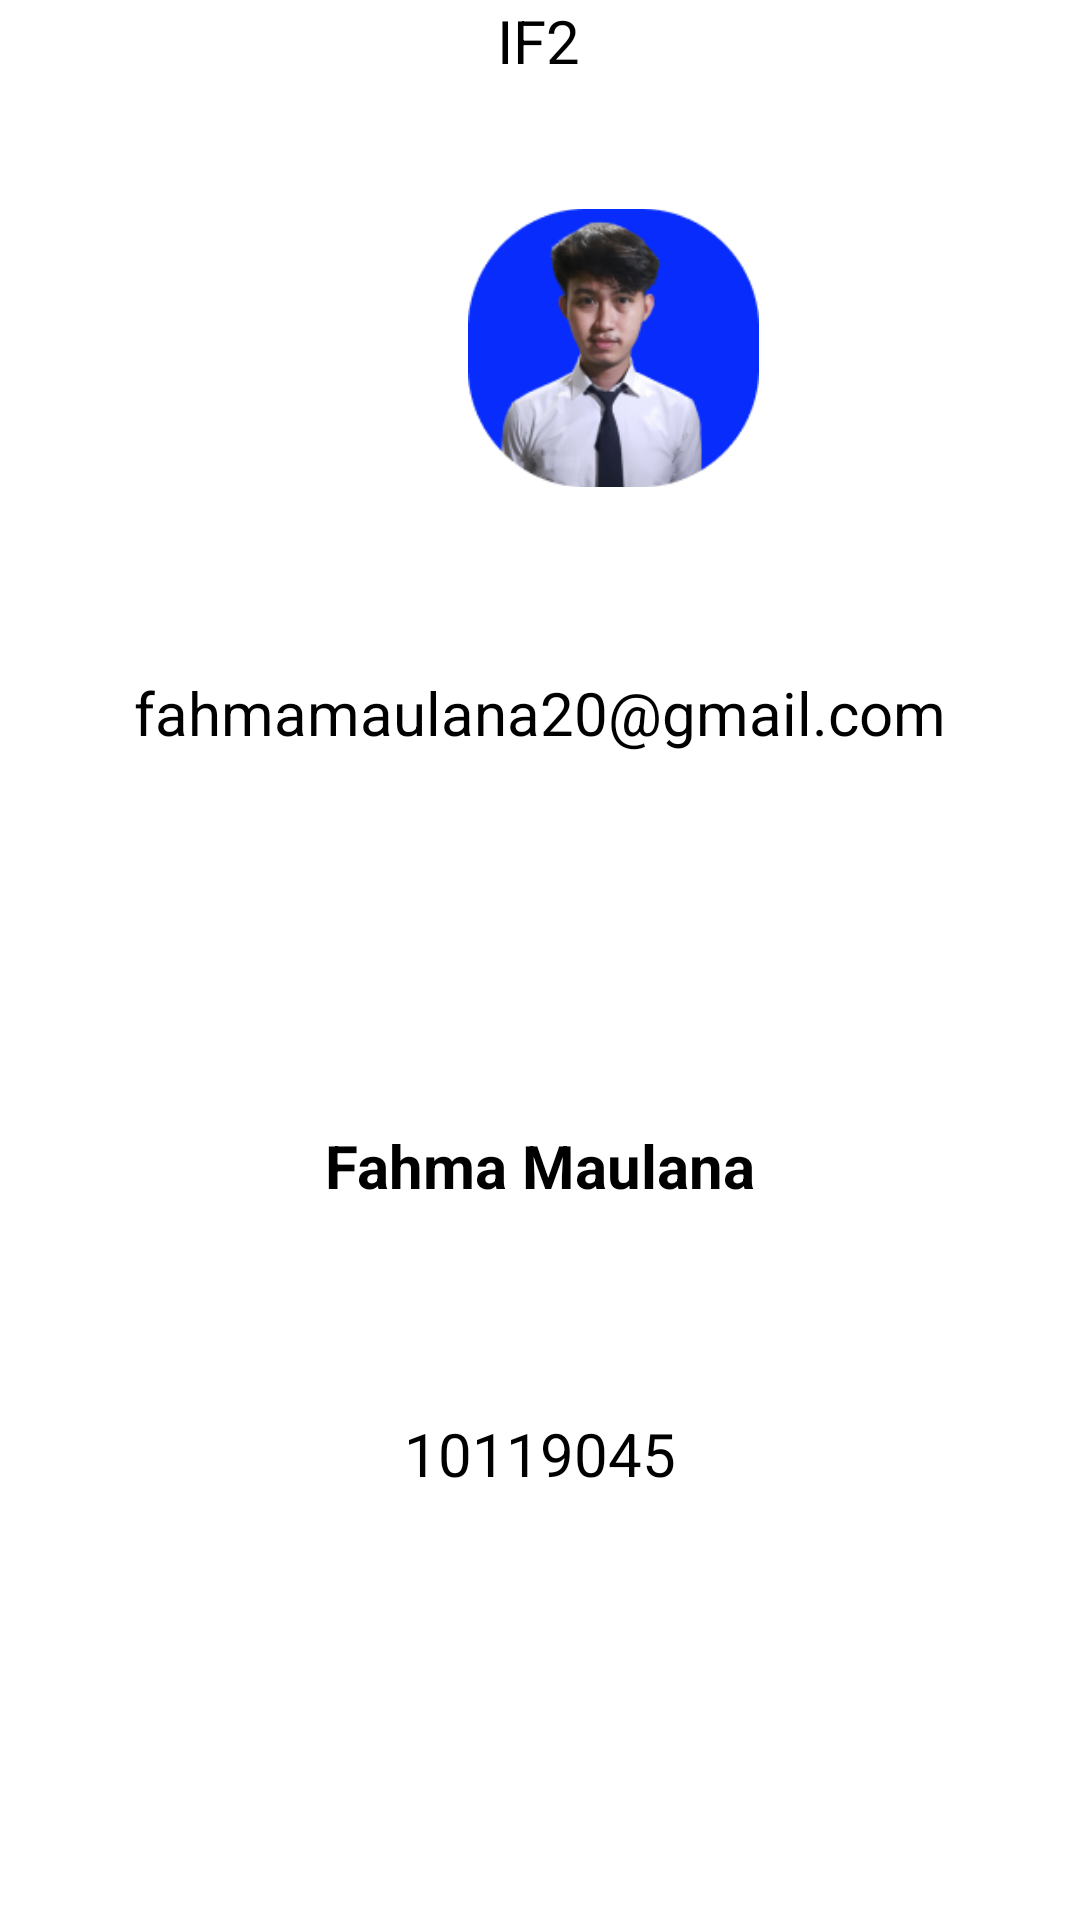

Named icons in this screenshot (1080w x 1920h) and their centers, [x,y]:
foto pribadi: [613,348]
